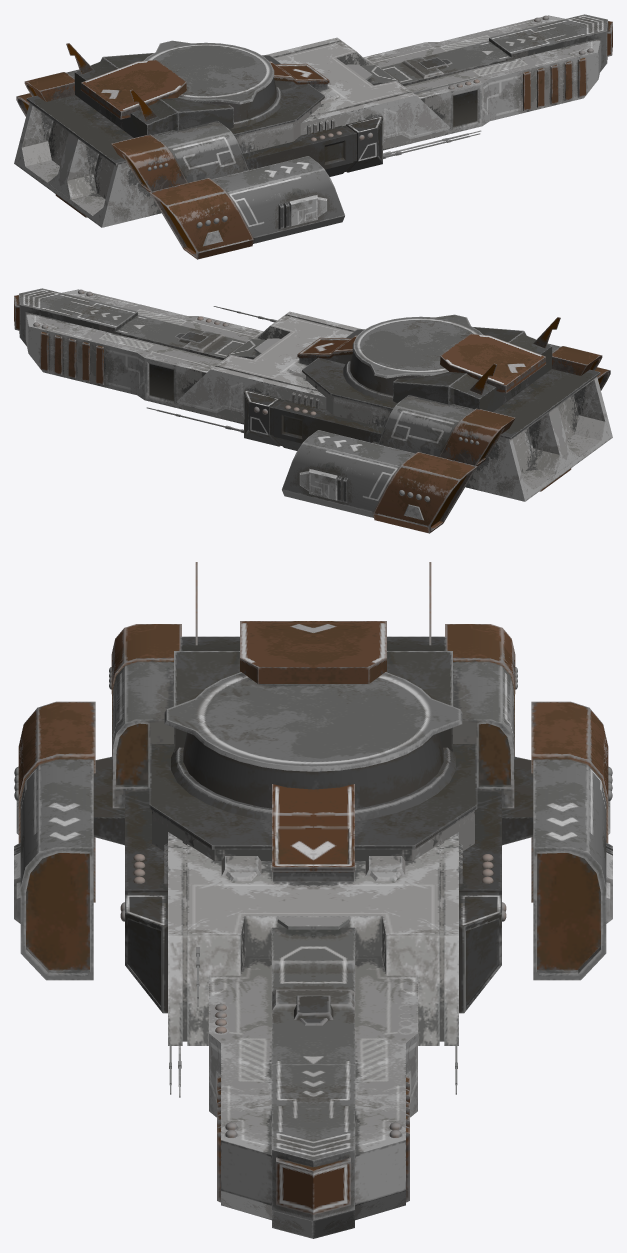
Rendered from missile-ship.glb.
The picture shows the model from 3 angles, top to bottom: view 1: azimuth 30°, elevation 25°; view 2: azimuth 150°, elevation 25°; view 3: azimuth 270°, elevation 25°; orthographic projection. The views are drawn at different scales.
Parts seen in each view (by area): view 1: Insurgent; view 2: Insurgent; view 3: Insurgent.
Part boxes in pixels (left/top/right/bottom): Insurgent: left=14, top=14, right=612, bottom=259; Insurgent: left=14, top=288, right=612, bottom=533; Insurgent: left=14, top=562, right=612, bottom=1238.
Size of the model in its own units: 3.2 by 0.8388 by 1.63.
1 material, 1 textured.
